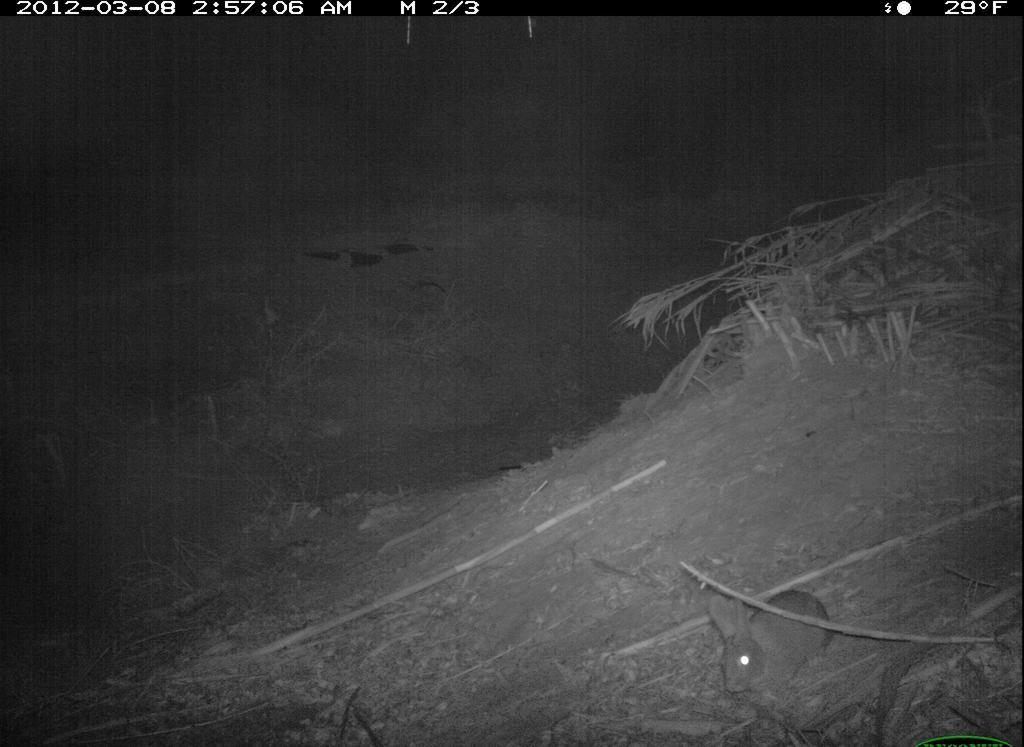rabbit: (696, 587, 847, 703)
